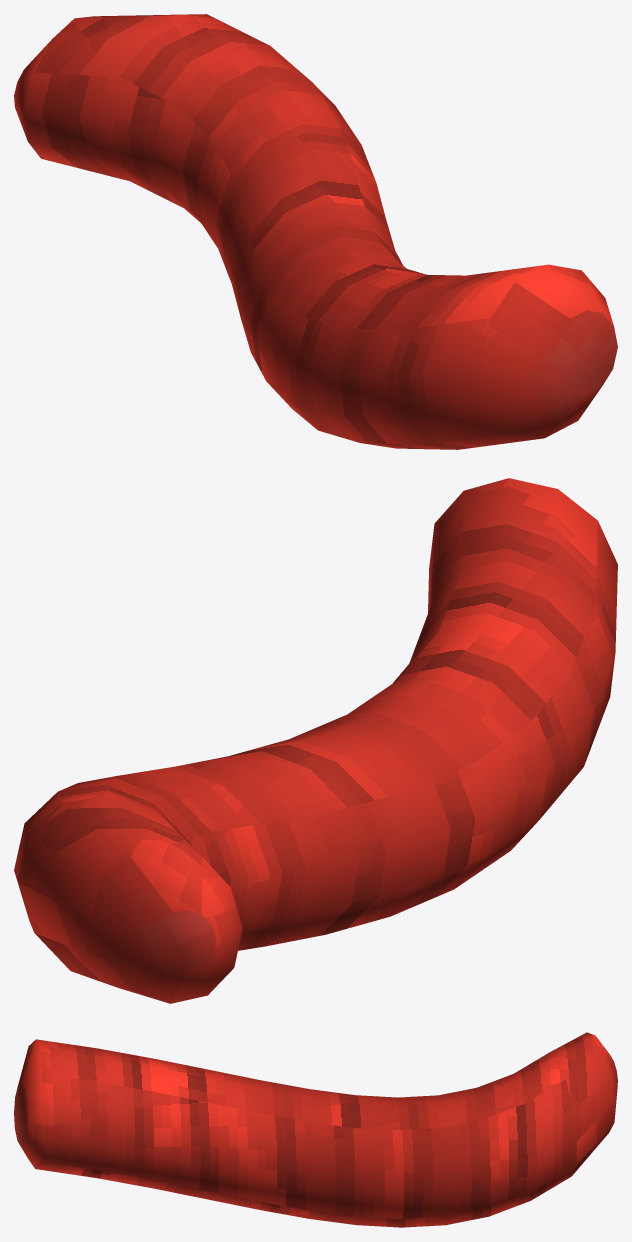
Rendered from sausage.glb.
The picture shows the model from 3 angles, top to bottom: view 1: azimuth 30°, elevation 25°; view 2: azimuth 150°, elevation 25°; view 3: azimuth 270°, elevation 25°; orthographic projection. The views are drawn at different scales.
Visible parts, largest first — view 1: BézierCurve; view 2: BézierCurve; view 3: BézierCurve.
Part boxes in pixels (left/top/right/bottom): BézierCurve: left=14, top=14, right=617, bottom=449; BézierCurve: left=14, top=478, right=617, bottom=1003; BézierCurve: left=14, top=1032, right=617, bottom=1227.
Size of the model in its own units: 0.3284 by 0.3058 by 0.9526.
1 material, 1 textured.
